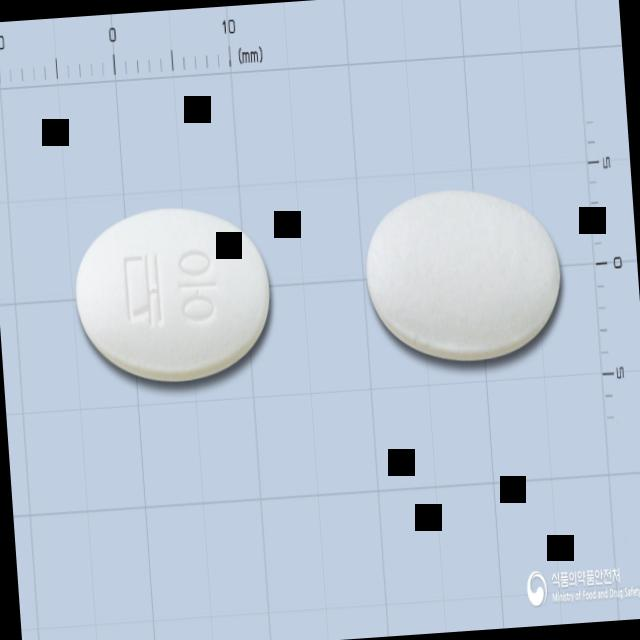Clao: (360, 180, 568, 372), (68, 202, 276, 390)
